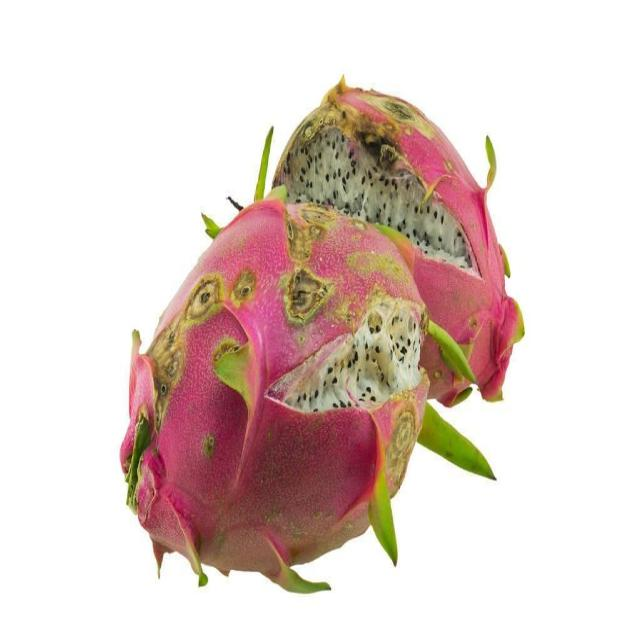organic: (119, 77, 526, 596)
